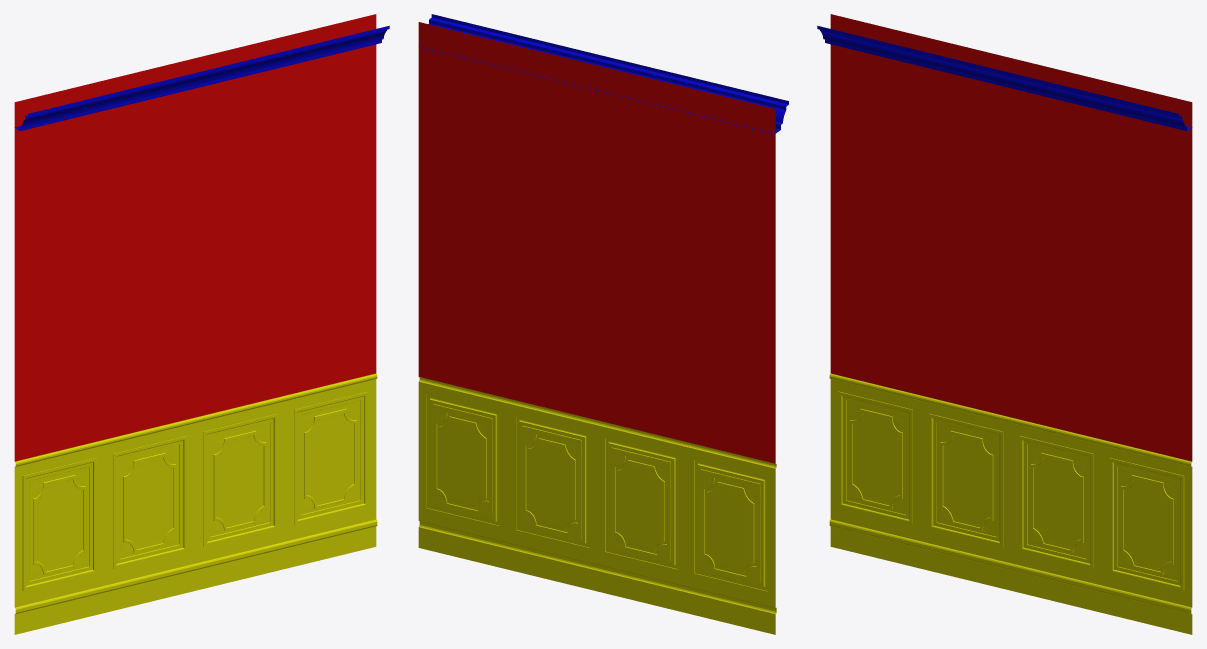
Rendered from Room_wall_high.fbx.
The picture shows the model from 3 angles, left to right: view 1: azimuth 30°, elevation 25°; view 2: azimuth 150°, elevation 25°; view 3: azimuth 330°, elevation 25°; orthographic projection.
Parts seen in each view (by area): view 1: Room_wall_high; view 2: Room_wall_high; view 3: Room_wall_high.
Boxes of the visible parts, bbox=[...] form: Room_wall_high: bbox=[14, 14, 389, 634]; Room_wall_high: bbox=[418, 14, 788, 634]; Room_wall_high: bbox=[817, 14, 1192, 634].
Size of the model in its own units: 22 by 30.96 by 1.48.
